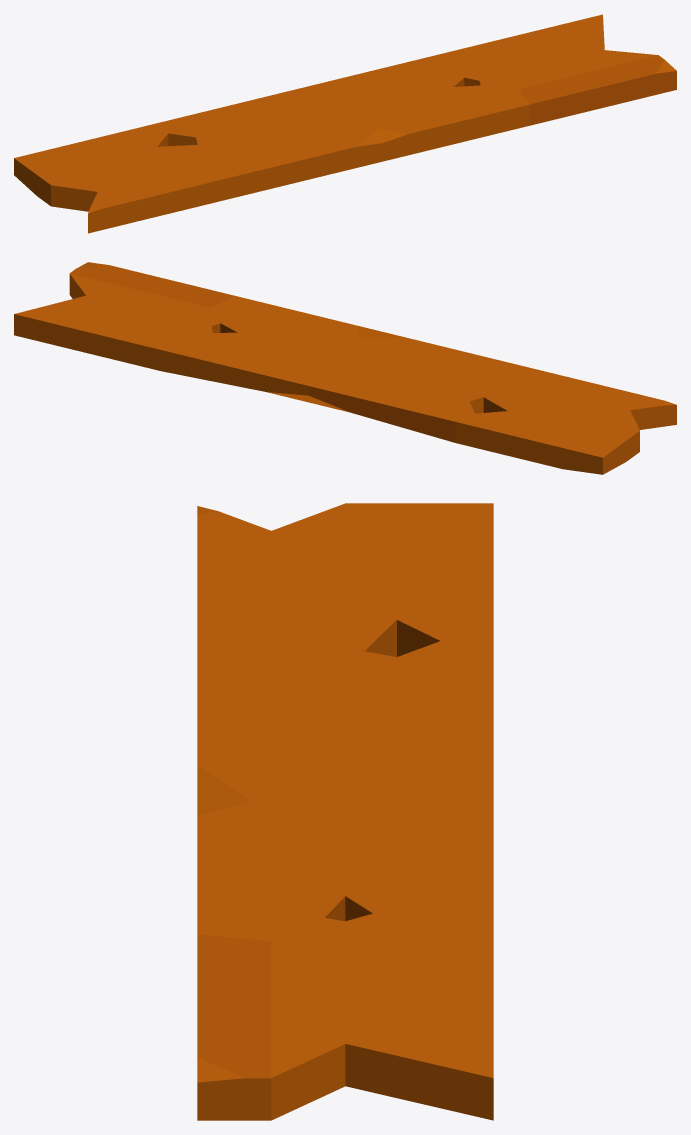
File: Rotten wood_16.fbx
3 views of the same model, one above another, from view 1: azimuth 30°, elevation 25°; view 2: azimuth 150°, elevation 25°; view 3: azimuth 270°, elevation 25° (orthographic). The views are drawn at different scales.
Parts seen in each view (by area): view 1: Cube.111; view 2: Cube.111; view 3: Cube.111.
Boxes of the visible parts, x1=… form: Cube.111: x1=14, y1=14, x2=676, y2=233; Cube.111: x1=14, y1=262, x2=676, y2=474; Cube.111: x1=197, y1=503, x2=493, y2=1120.
Bounding box in the file's own units: 60.01 × 2.07 × 13.07.
